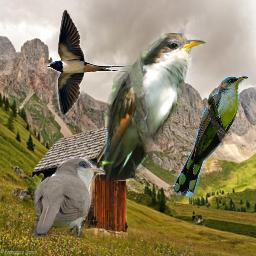Cuckoo: (99, 33, 206, 181), (174, 76, 248, 197), (31, 157, 106, 239)
Swallow: (47, 8, 128, 118)
